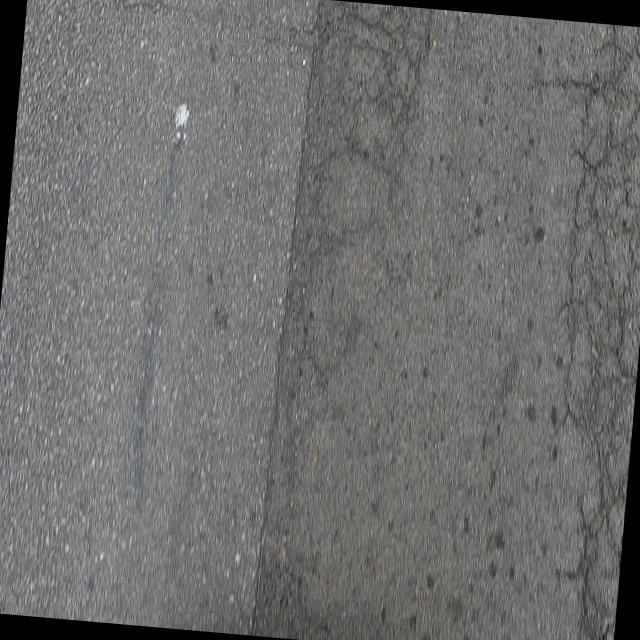Retak-Buaya: (553, 31, 640, 640), (349, 2, 439, 190)
Retak-Memanjang: (245, 54, 318, 634)
